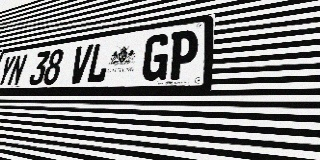3: (28, 50, 51, 85)
8: (41, 48, 66, 85)
G: (140, 33, 171, 81)
L: (85, 41, 113, 83)
N: (6, 53, 28, 86)
P: (167, 29, 199, 80)
V: (67, 44, 94, 84)
Y: (0, 55, 17, 87)
